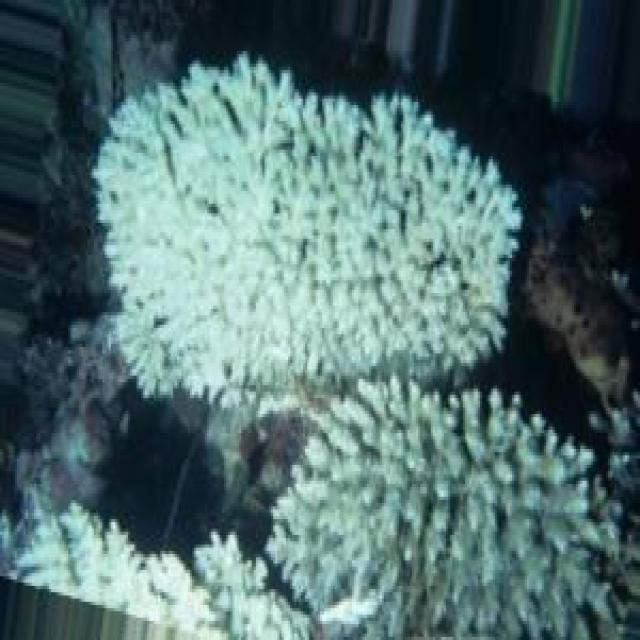bleached coral: (96, 56, 521, 404), (266, 379, 615, 638), (0, 487, 222, 638), (195, 535, 306, 637)
